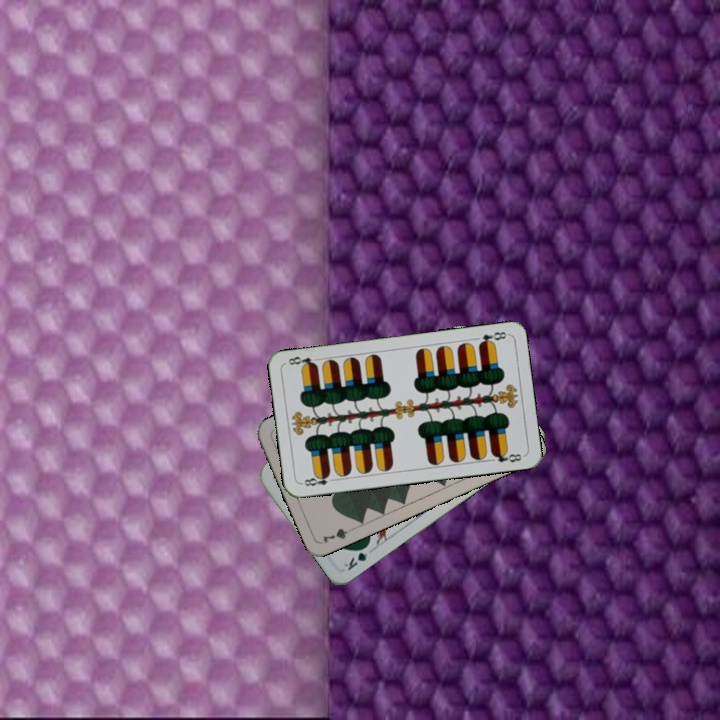E8: (298, 470, 338, 489), (474, 328, 510, 349)
G7: (318, 523, 358, 546)
GK: (340, 540, 372, 573)
